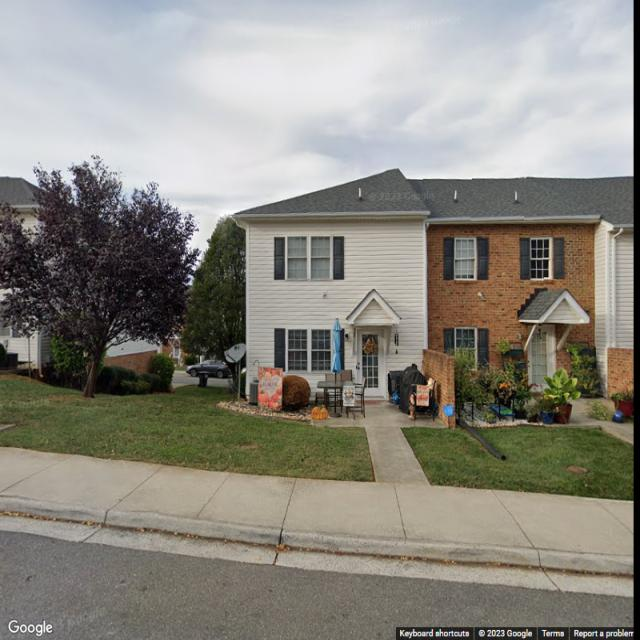House: (231, 168, 634, 427), (0, 175, 157, 389)
